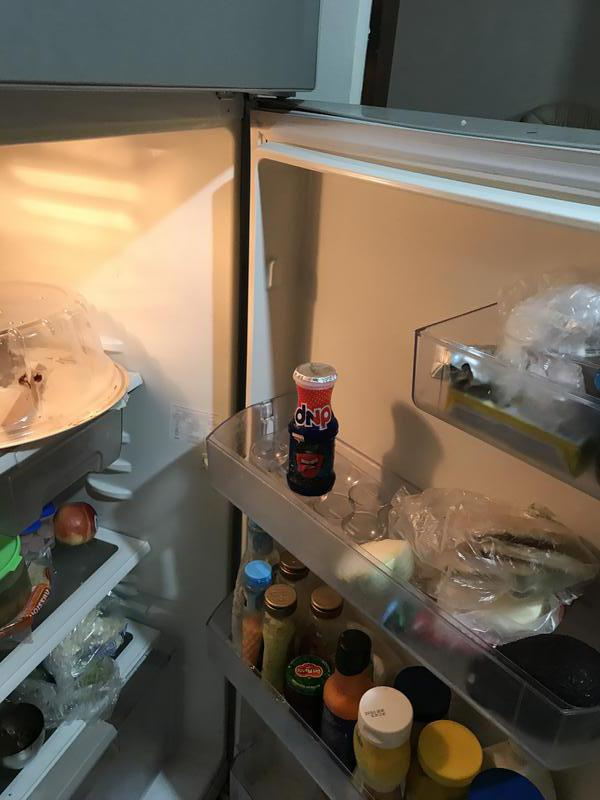danup: (287, 367, 339, 495)
